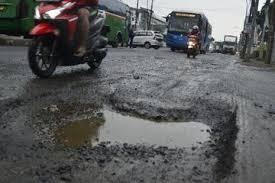Pothole: (9, 72, 256, 177)
